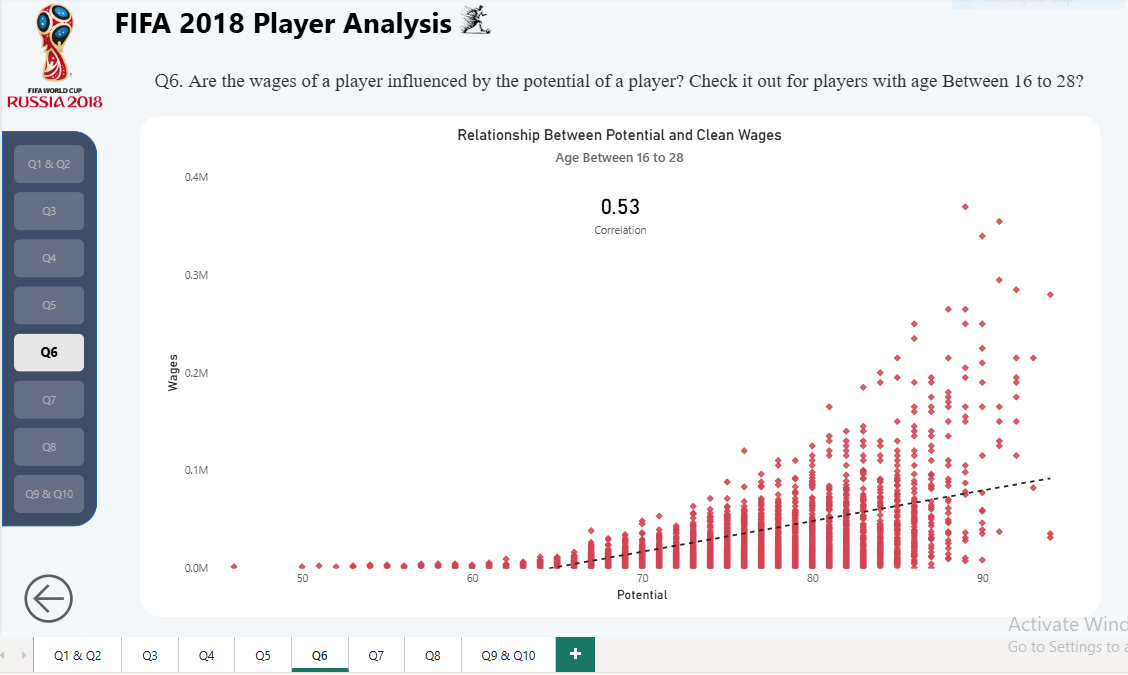

Layout of this report page (visuals, bound fields, positions):
{"tool":"powerbi","page":{"name":"Q6","canvas":[1280,720],"ordinal":4},"visuals":[{"type":"shape","box":[155.2,133.9,1081.1,563.6],"z":0},{"type":"shape","box":[0,150.4,107.1,444.9],"z":1000,"group":"g1"},{"type":"textbox","box":[121.1,0,402.9,53.5],"z":1000},{"type":"scatterChart","title":"Relationship Between Potential and Clean Wages","fields":{"X":["FIFA 2018 Dataset.Potential"],"Y":["FIFA 2018 Dataset.Clean Wages"]},"box":[178.9,145.1,1031.6,540],"z":2000},{"type":"cardVisual","fields":{"Data":["FIFA 2018 Dataset.Correlation"]},"box":[645.8,204.8,100.1,77.6],"z":3000},{"type":"textbox","box":[167,72.7,1055.6,45.9],"z":4000},{"type":"image","box":[0,0,119.8,130],"z":5000},{"type":"image","box":[484.5,0,95.6,50],"z":6000},{"type":"group","id":"g1","title":"Group 1","box":[0,150.4,107.1,444.9],"z":6001},{"type":"actionButton","box":[17.8,642.5,70.1,68.8],"z":6002},{"type":"pageNavigator","box":[14,165.7,79,415.6],"z":8000,"group":"g1"}]}

Visuals, with their boxes on the page's 1280x720 design canvas (x1, y1, x2, y2). These are canvas units, not pixel positions in the 1128x675 screenshot, which may show the page scaled, cropped or inside an application window:
shape: <box>155,134,1236,698</box>
shape: <box>0,150,107,595</box>
textbox: <box>121,0,524,54</box>
"Relationship Between Potential and Clean Wages" scatterChart: <box>179,145,1210,685</box>
cardVisual - FIFA 2018 Dataset.Correlation: <box>646,205,746,282</box>
textbox: <box>167,73,1223,119</box>
image: <box>0,0,120,130</box>
image: <box>484,0,580,50</box>
"Group 1" group: <box>0,150,107,595</box>
actionButton: <box>18,642,88,711</box>
pageNavigator: <box>14,166,93,581</box>
